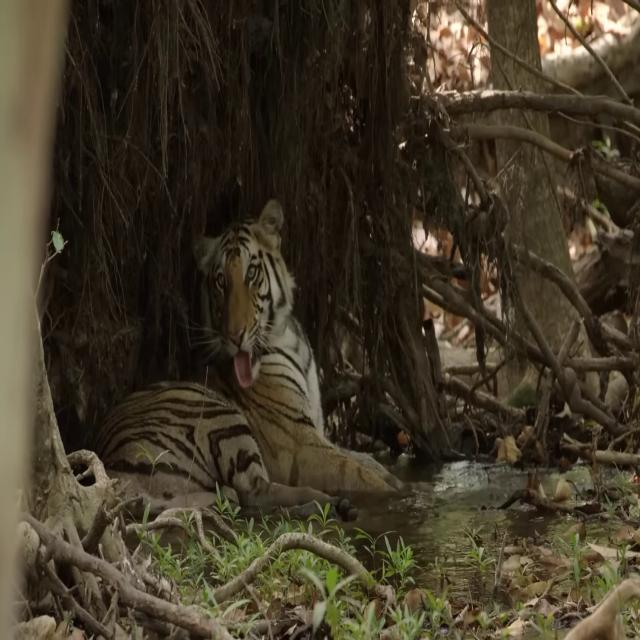tiger: (93, 199, 405, 520)
